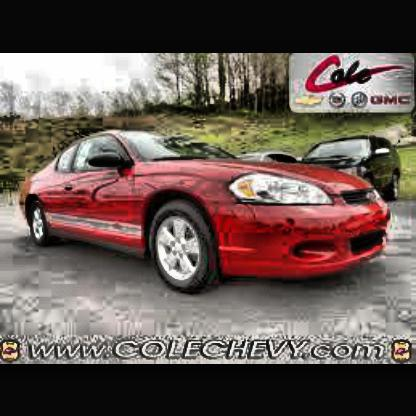Chevrolet Monte Carlo Coupe 2007: (20, 127, 394, 297)
